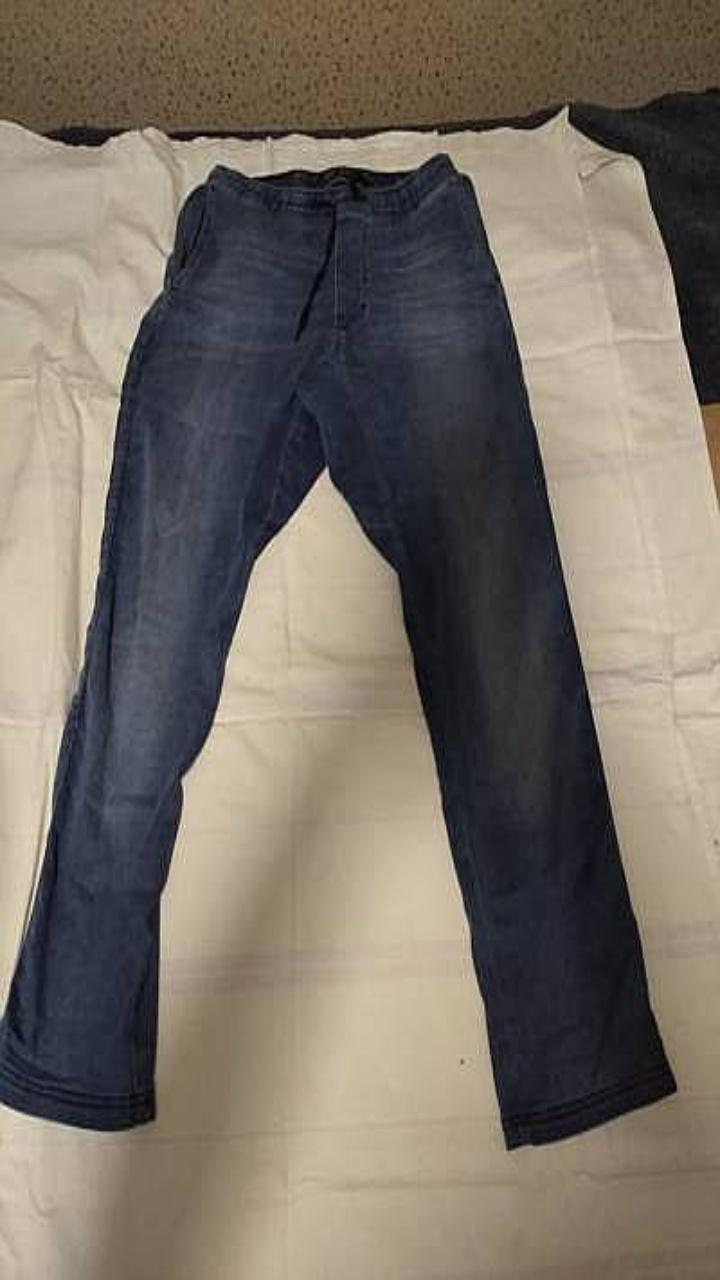Jeans: (0, 153, 676, 1147)
